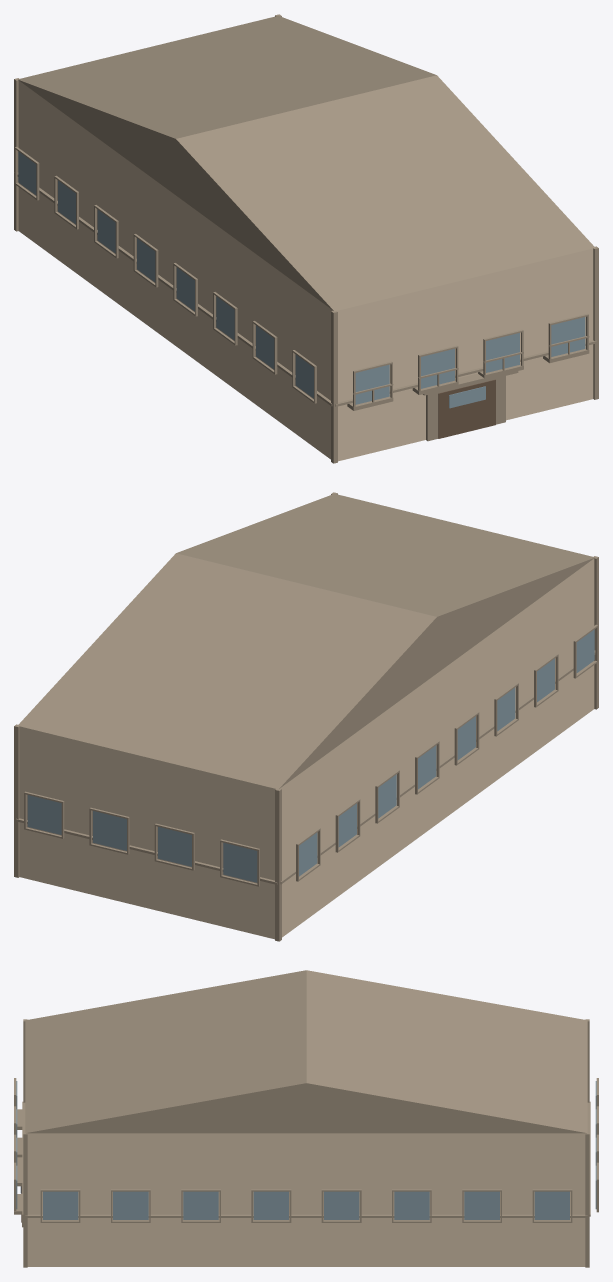
The model's file is lot_2x4_gable.glb.
3 views of the same model, one above another, from view 1: azimuth 30°, elevation 25°; view 2: azimuth 150°, elevation 25°; view 3: azimuth 270°, elevation 25° (orthographic). The views are drawn at different scales.
Parts seen in each view (by area): view 1: lot_2x4_gable; view 2: lot_2x4_gable; view 3: lot_2x4_gable.
Boxes of the visible parts, x1,y1,x2,y2 form: lot_2x4_gable: [14, 14, 598, 463]; lot_2x4_gable: [14, 492, 598, 941]; lot_2x4_gable: [14, 970, 598, 1267].
Bounding box in the file's own units: 15.74 × 11 × 31.74.
